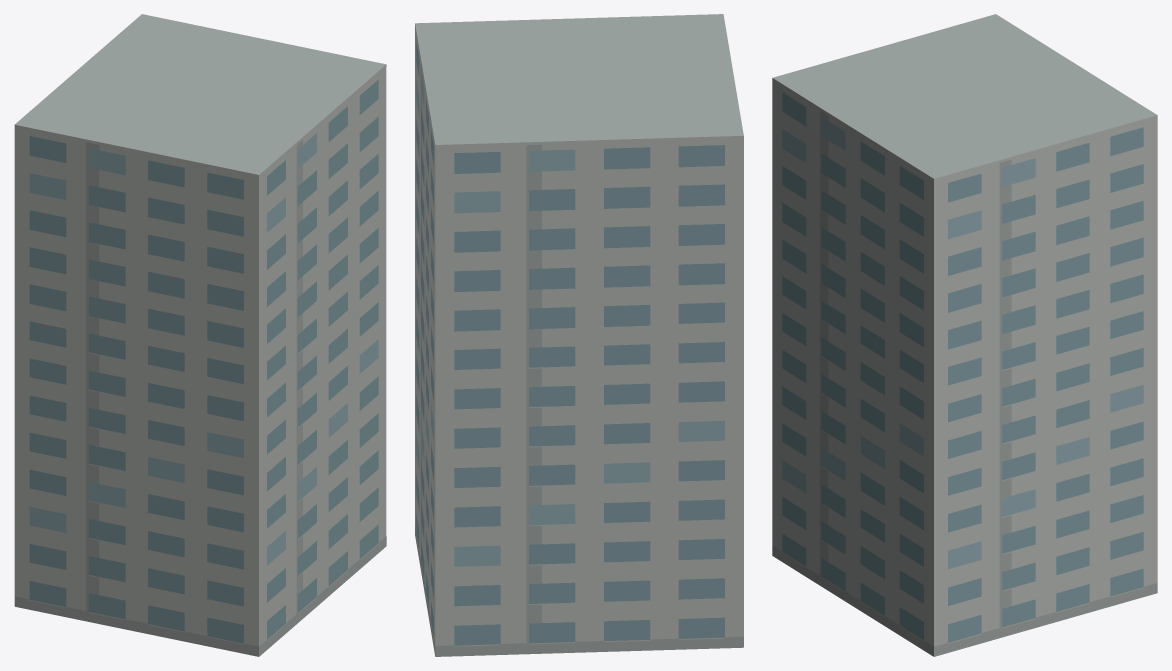
The model's file is residential-13a468a9-4ee8-4eba-bae8-bd7a28a8df13.glb.
3 views of the same model, side by side, from view 1: azimuth 30°, elevation 25°; view 2: azimuth 150°, elevation 25°; view 3: azimuth 270°, elevation 25° (orthographic). The views are drawn at different scales.
Visible parts, largest first — view 1: residential-13a468a9-4ee8-4eba-bae8-bd7a28a8df13.tmp; view 2: residential-13a468a9-4ee8-4eba-bae8-bd7a28a8df13.tmp; view 3: residential-13a468a9-4ee8-4eba-bae8-bd7a28a8df13.tmp.
Part boxes in pixels (x1=…): residential-13a468a9-4ee8-4eba-bae8-bd7a28a8df13.tmp: x1=14, y1=14, x2=386, y2=656; residential-13a468a9-4ee8-4eba-bae8-bd7a28a8df13.tmp: x1=415, y1=14, x2=743, y2=656; residential-13a468a9-4ee8-4eba-bae8-bd7a28a8df13.tmp: x1=772, y1=14, x2=1157, y2=656.
Bounding box in the file's own units: 31.82 × 43 × 31.41.
